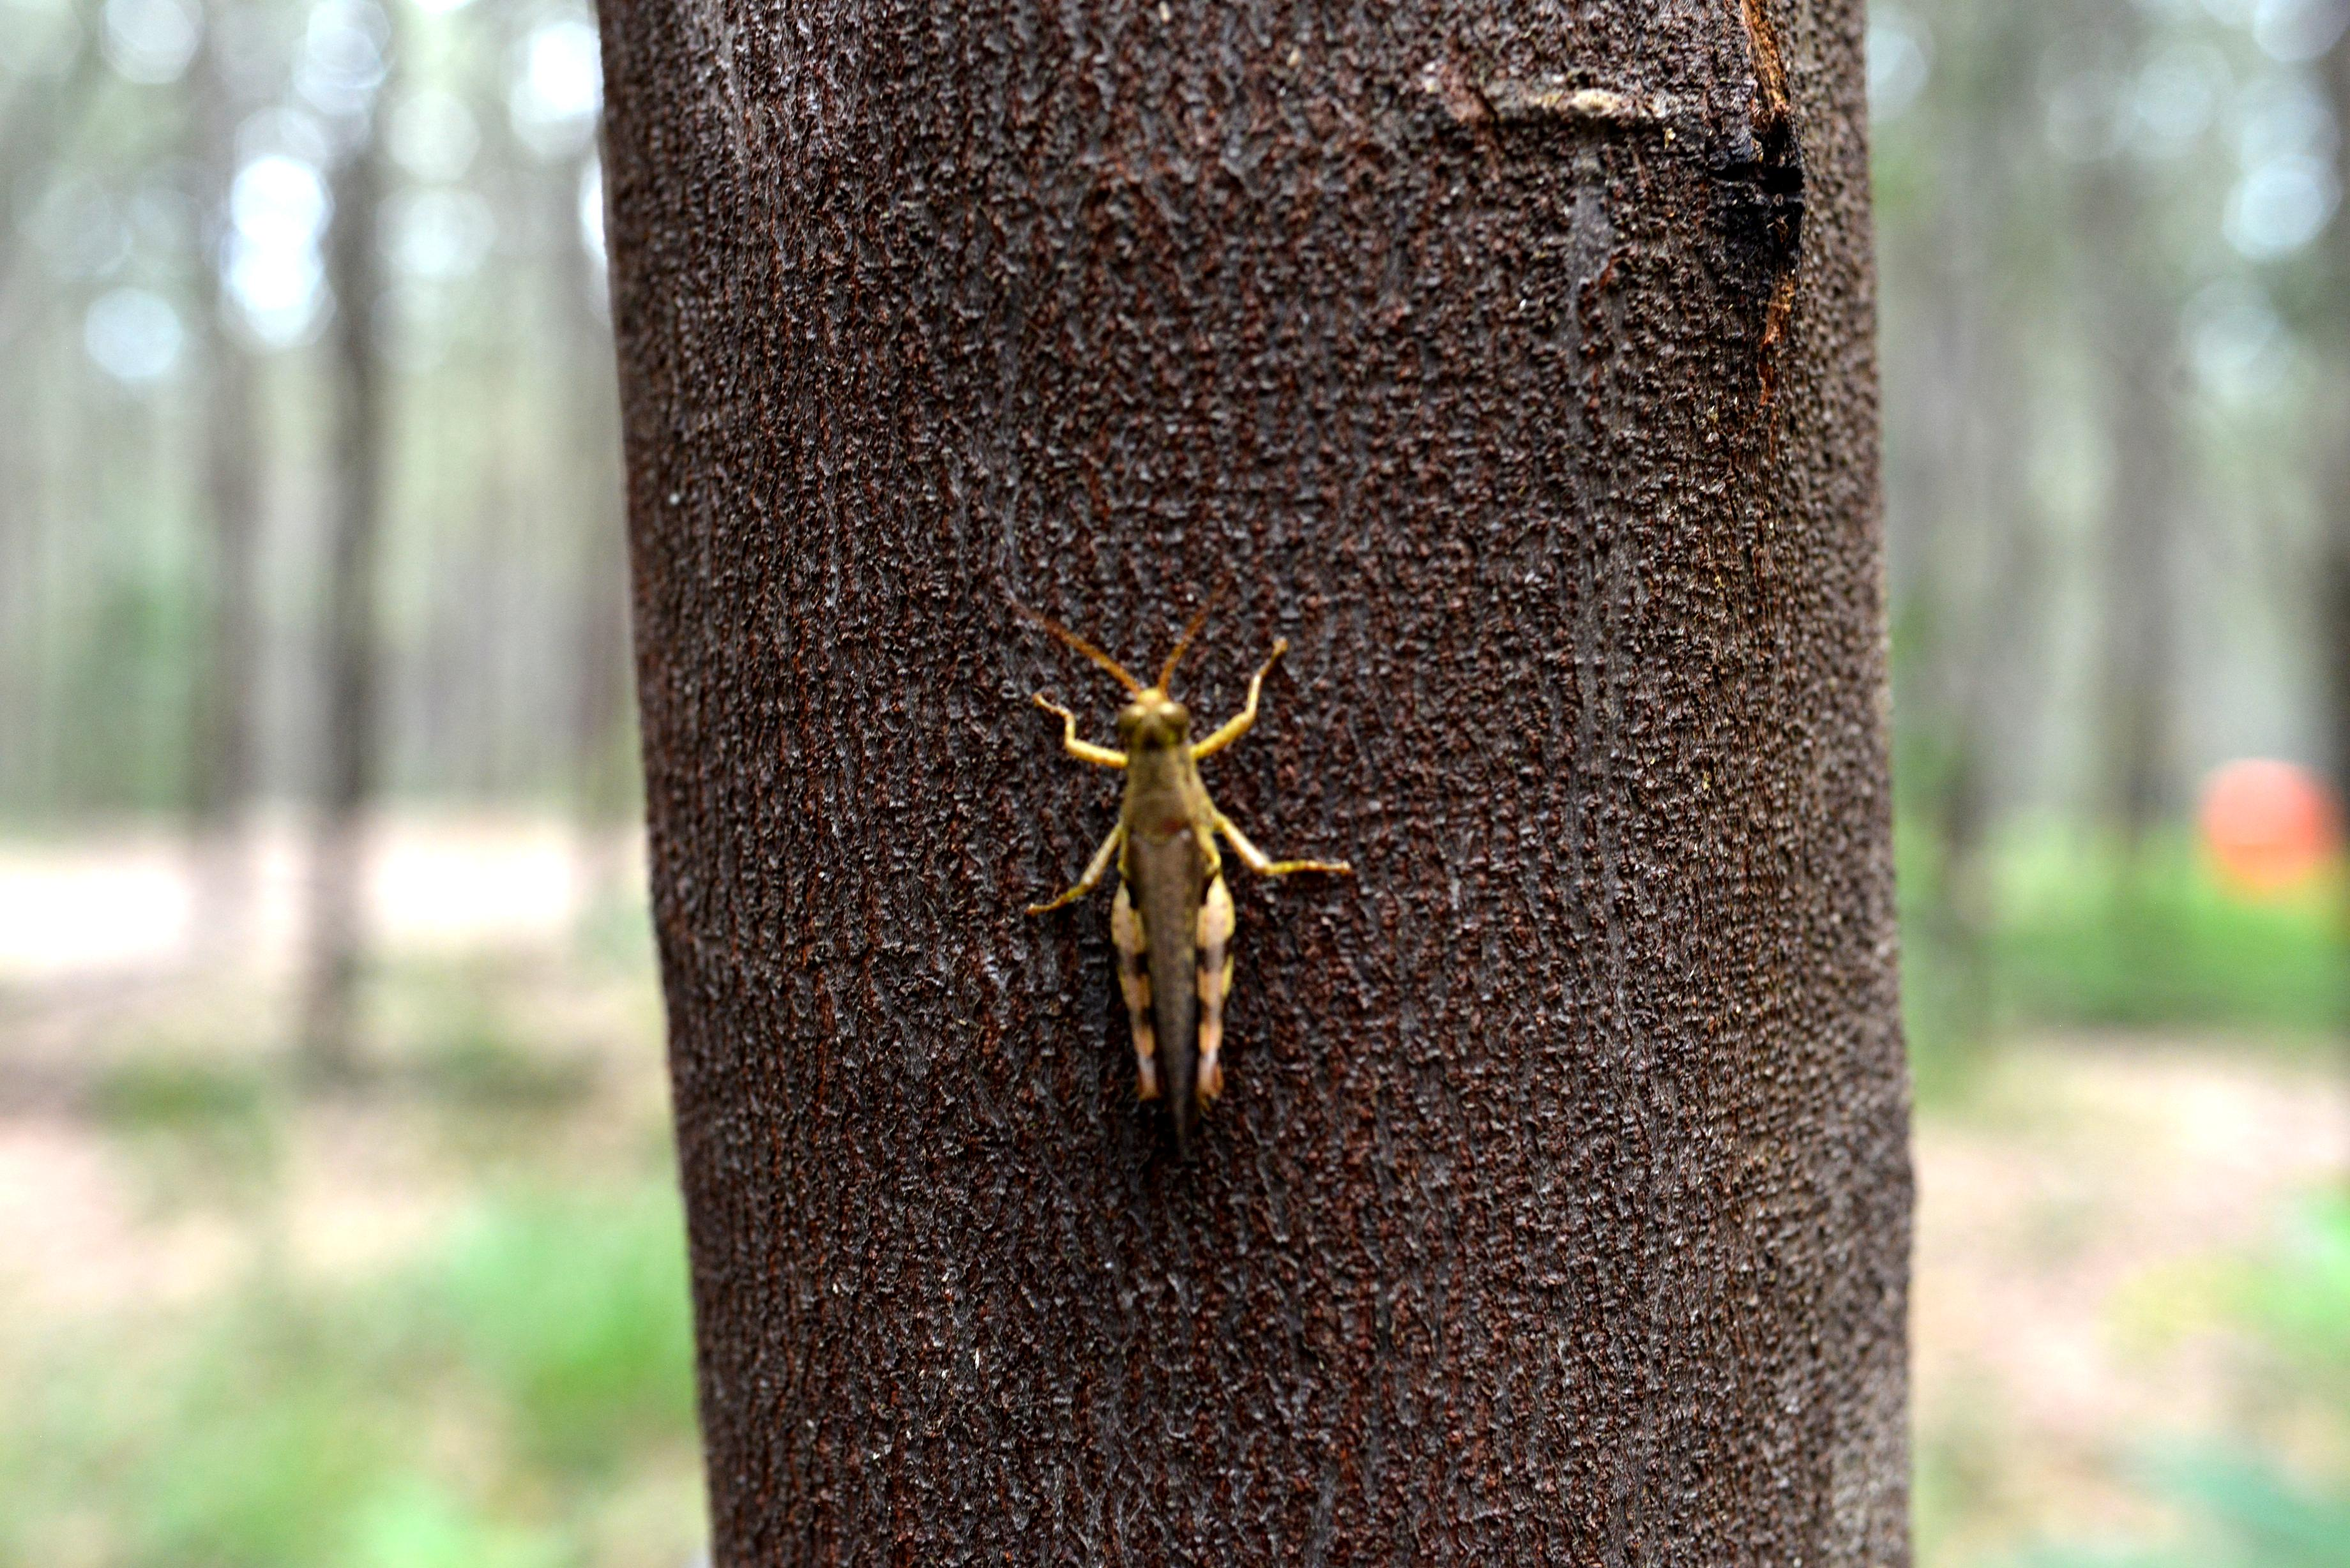Stem Borer: (1641, 0, 1837, 488)
